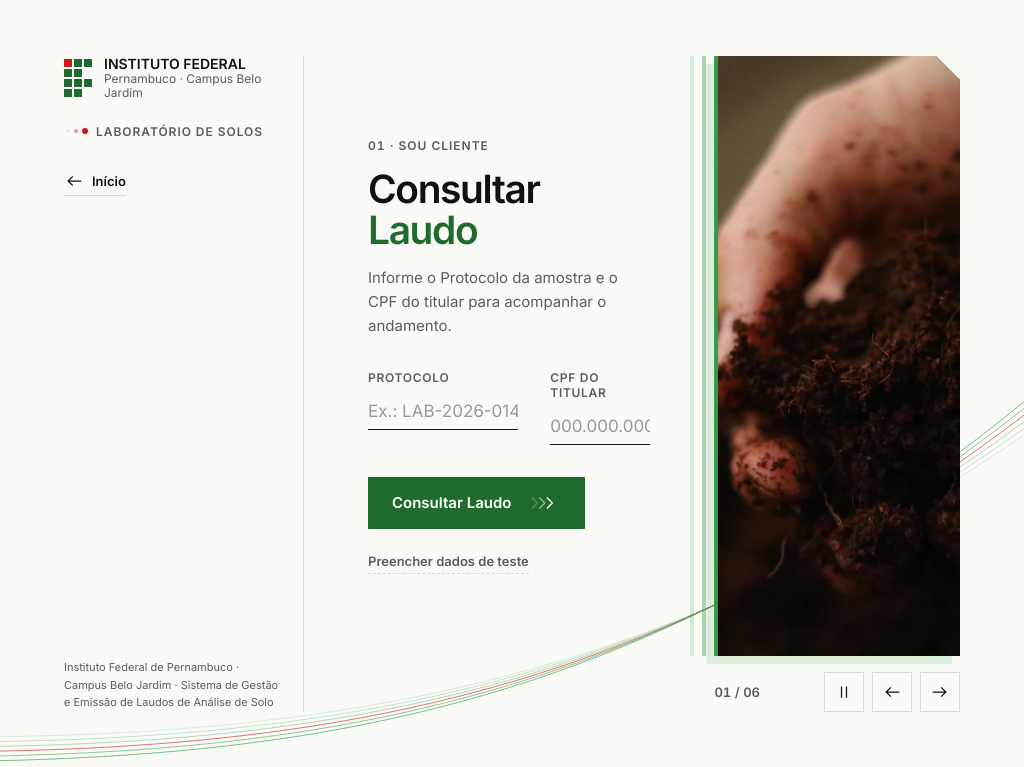
Test: consulta do cliente › aplica máscara no CPF, envia os dados normalizados e abre o laudo
Type " 20101.2306 " into the field labelled "Protocolo" at (443, 412), box [368, 393, 518, 430]
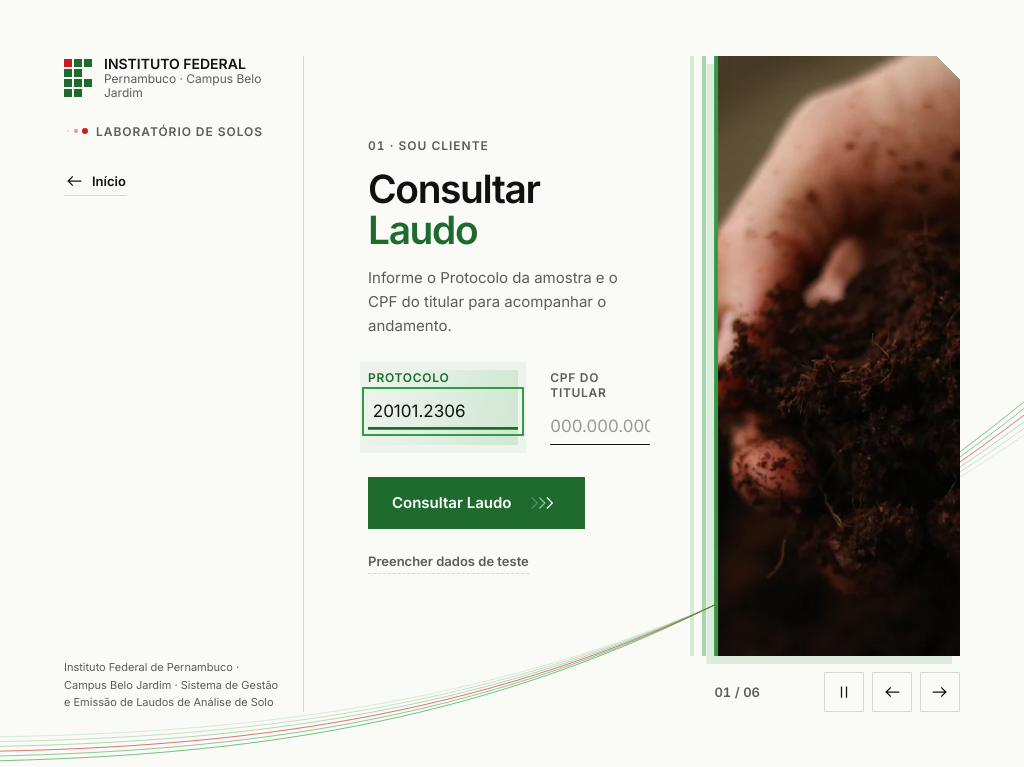
Type "52998224725" into the field labelled "CPF do titular" at (600, 426), box [550, 408, 650, 445]
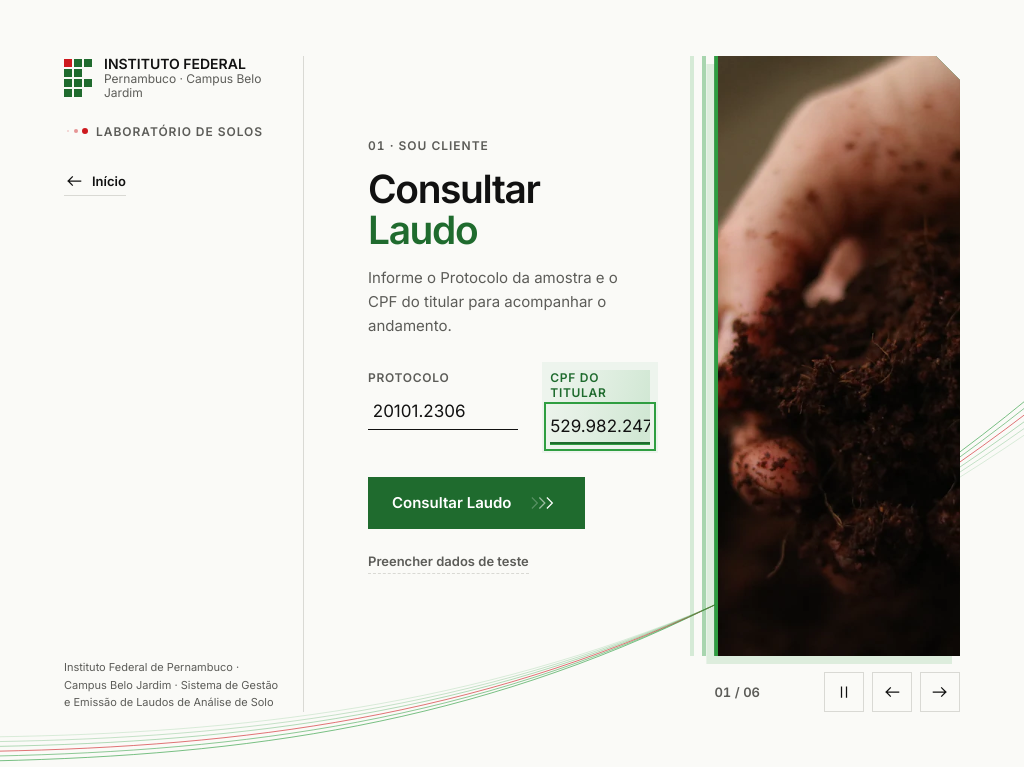
expect the field labelled "CPF do titular" holds "529.982.247-25": met, box [550, 408, 650, 445]
Click the button "Consultar Laudo" at (477, 503), box [368, 477, 585, 529]
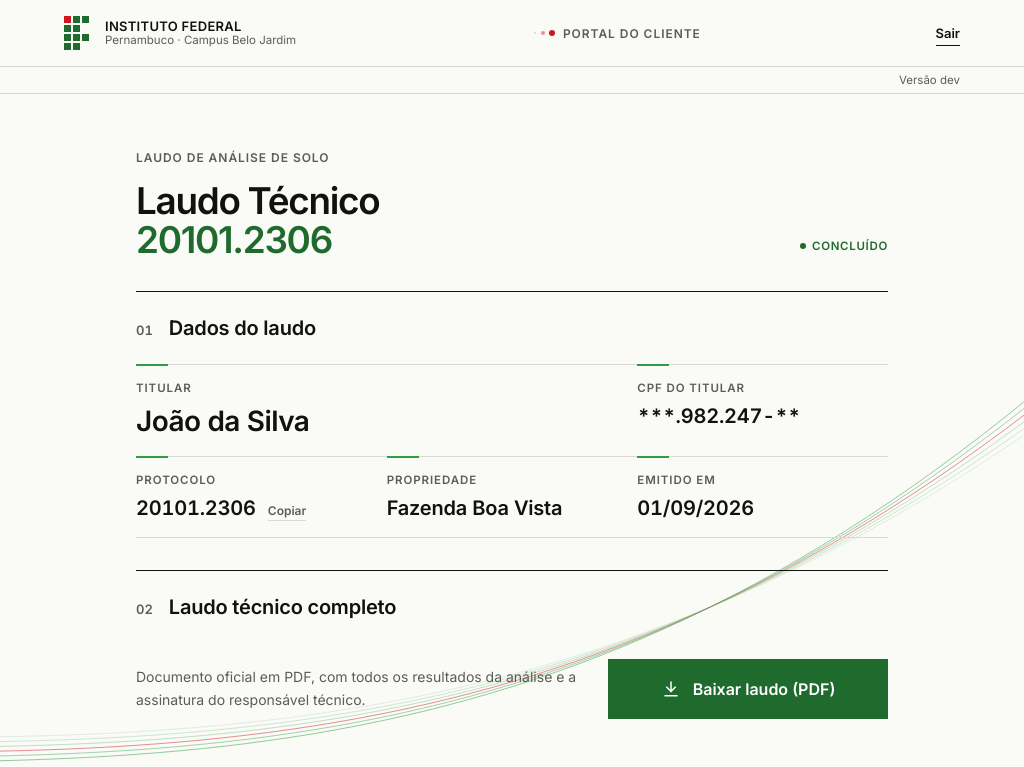
expect the heading "Laudo Técnico 20101.2306" is shown: met, box [136, 181, 379, 259]
